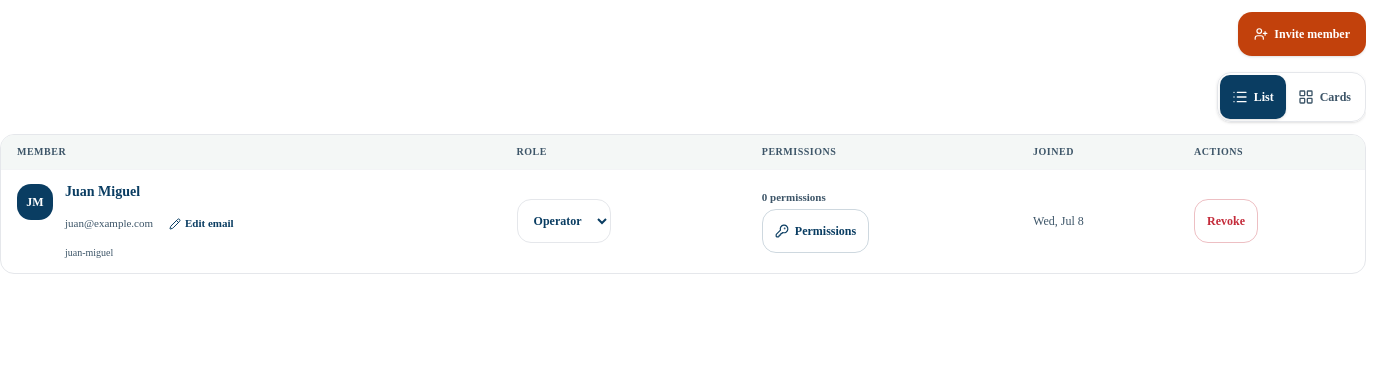
Test case: members table contact email (#449) › falls back to a generic message when the request throws
Click the button with aria-label "Edit email for Juan Miguel": x=201, y=224 [161,202,242,246]
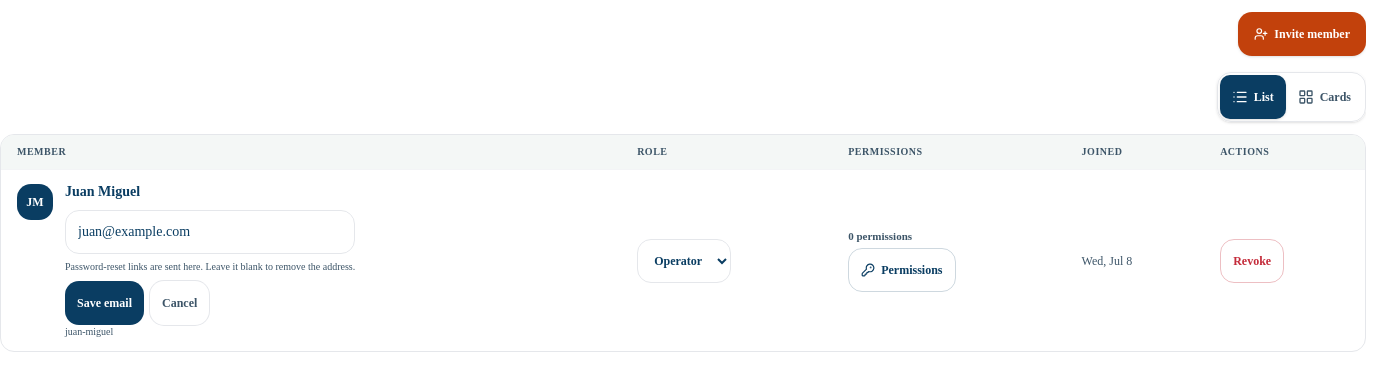
Click the button "Save email": x=104, y=303 [65,281,144,325]
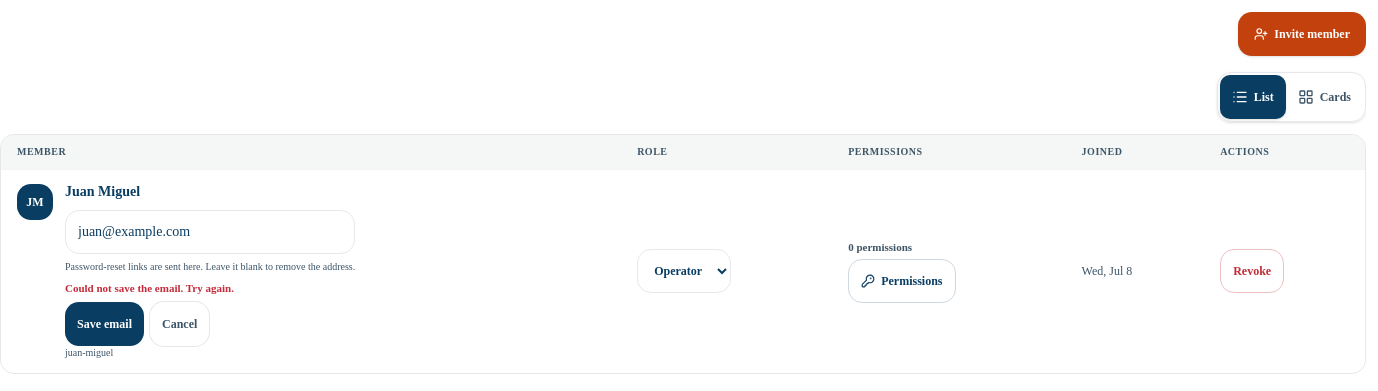
Now the message reads "Could not save the email. Try again.", box [65,282,234,294]
